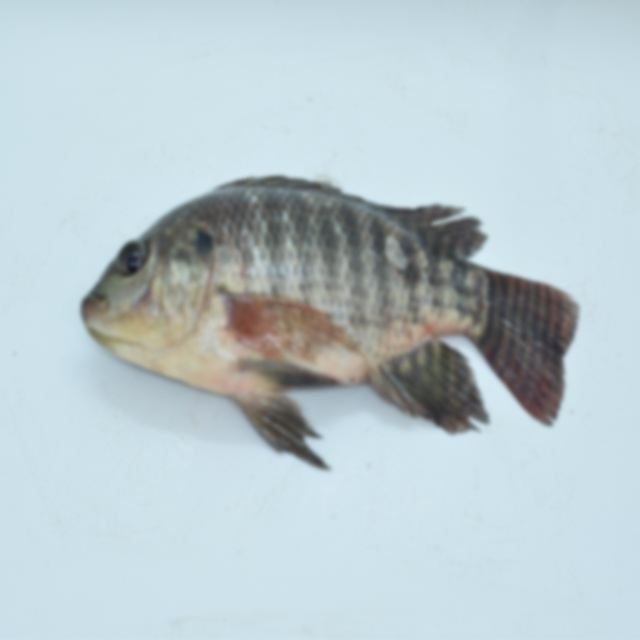Columnaris Disease: (59, 142, 599, 496)
